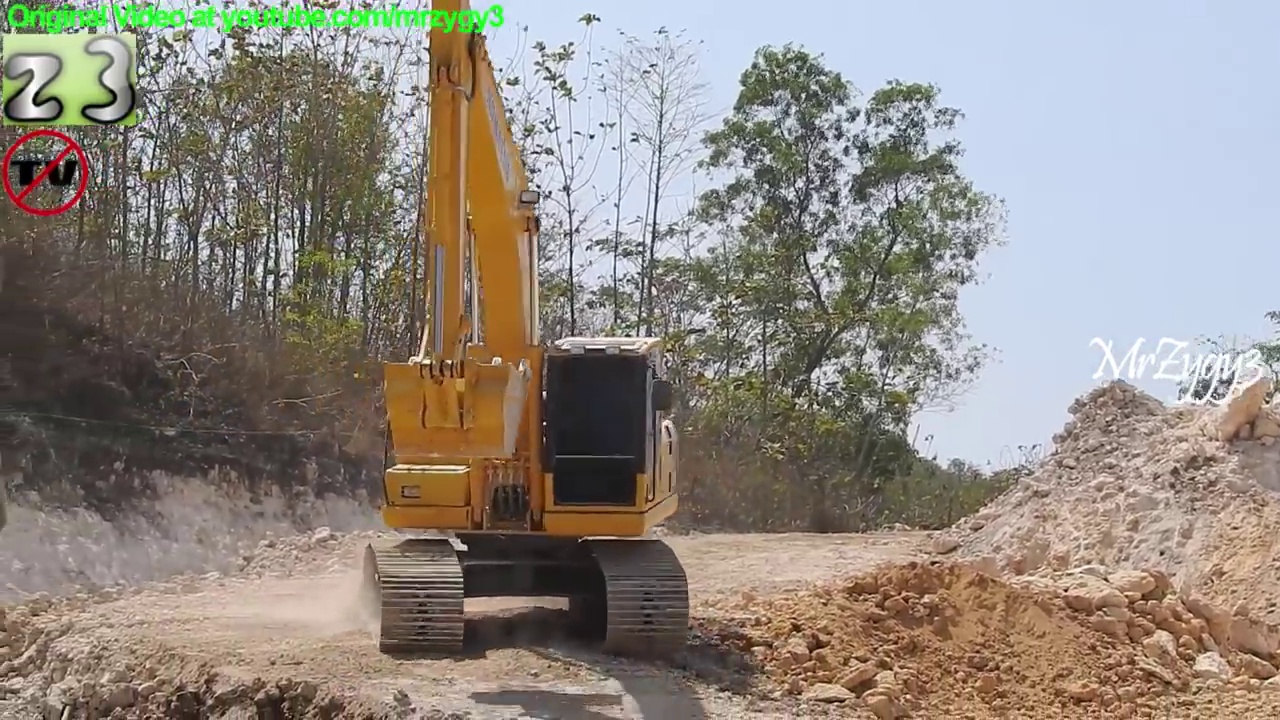excavator: (351, 1, 699, 668)
